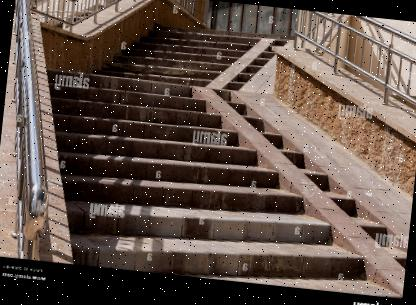stair: (72, 71, 275, 284), (86, 6, 272, 108)
